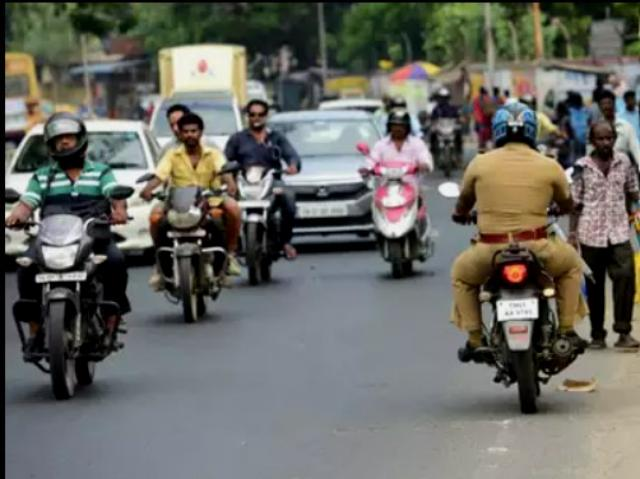licensePlate: (493, 302, 540, 322), (36, 272, 91, 284), (167, 225, 209, 238), (379, 195, 408, 209), (239, 196, 271, 208)
motorcycle: (451, 90, 600, 422), (2, 111, 132, 401), (139, 100, 250, 342), (361, 101, 441, 281), (238, 93, 300, 298)
withHelmet: (39, 119, 91, 166), (495, 98, 540, 149), (386, 108, 415, 141)
withoutHelmet: (160, 103, 192, 138), (244, 100, 276, 132), (183, 117, 209, 146)
